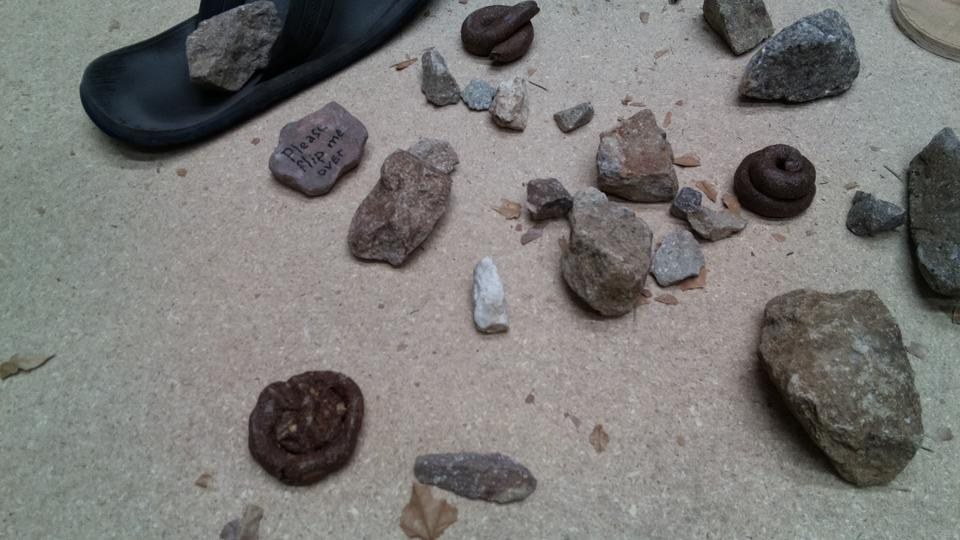poop: (244, 367, 366, 490), (731, 143, 819, 223), (458, 1, 547, 70)
